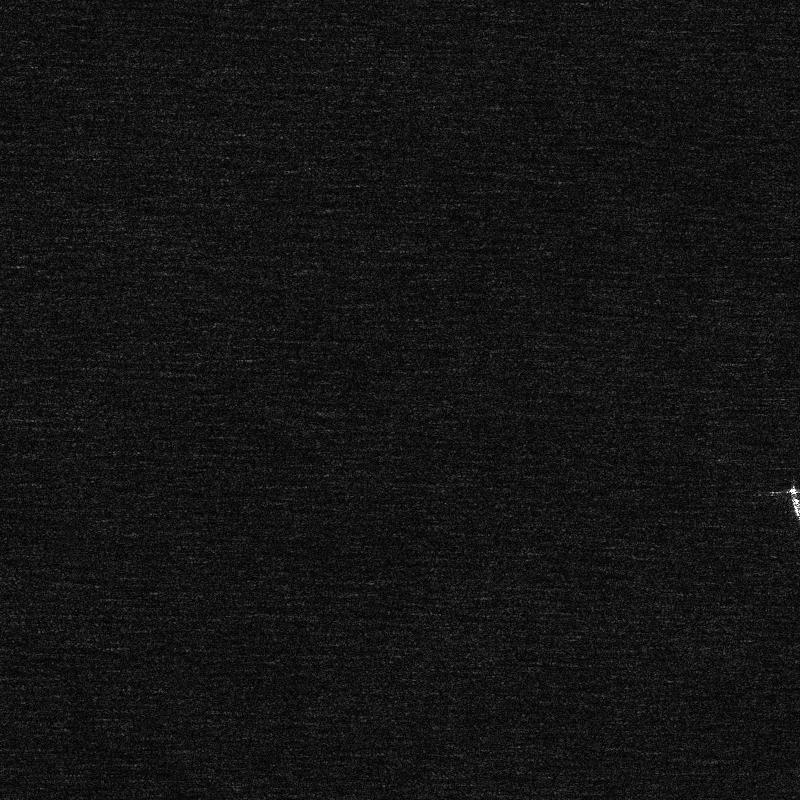ship: (790, 487, 799, 520)
